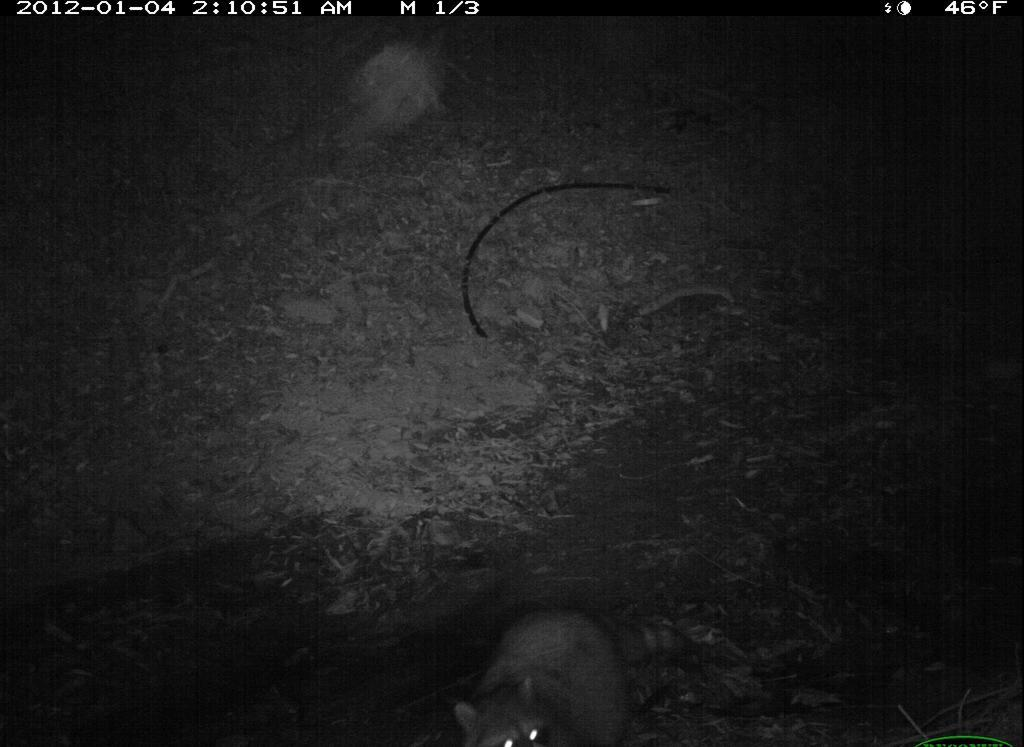raccoon: (442, 594, 642, 747)
